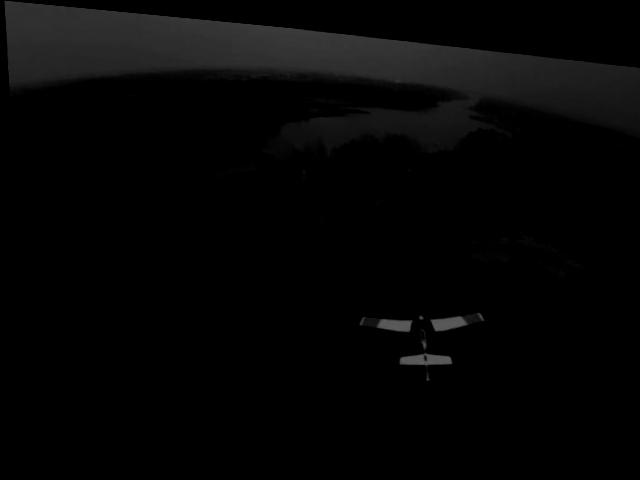hedef: (339, 279, 494, 392)
